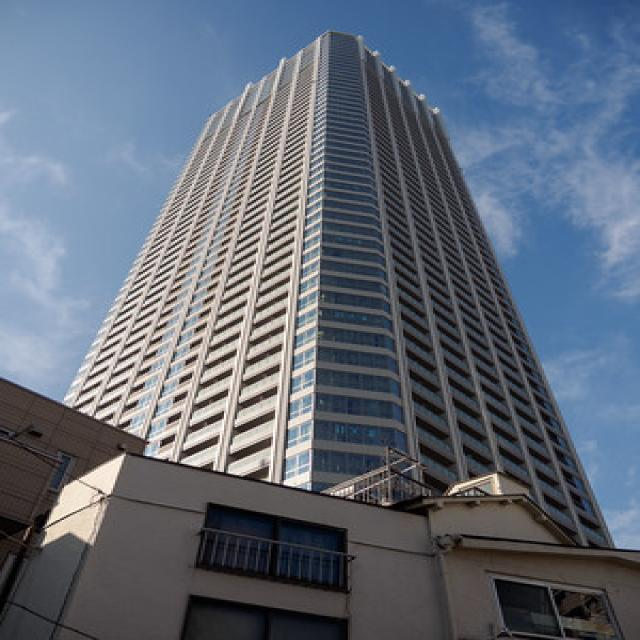Normal_building: (76, 30, 620, 640)
